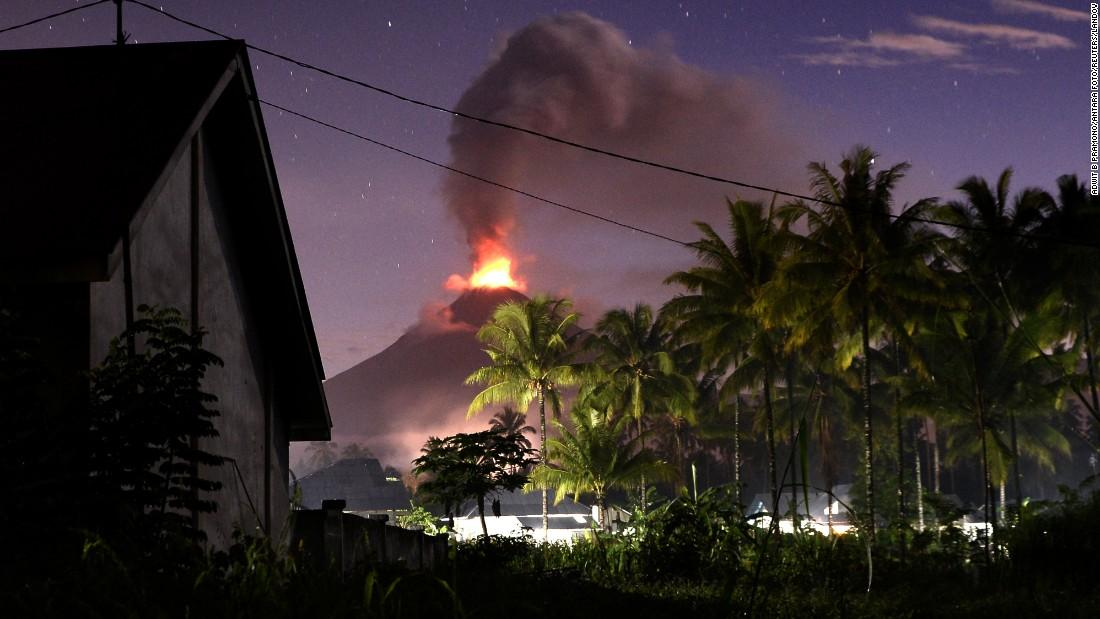fire: (472, 252, 517, 290)
smoke: (512, 28, 643, 152)
